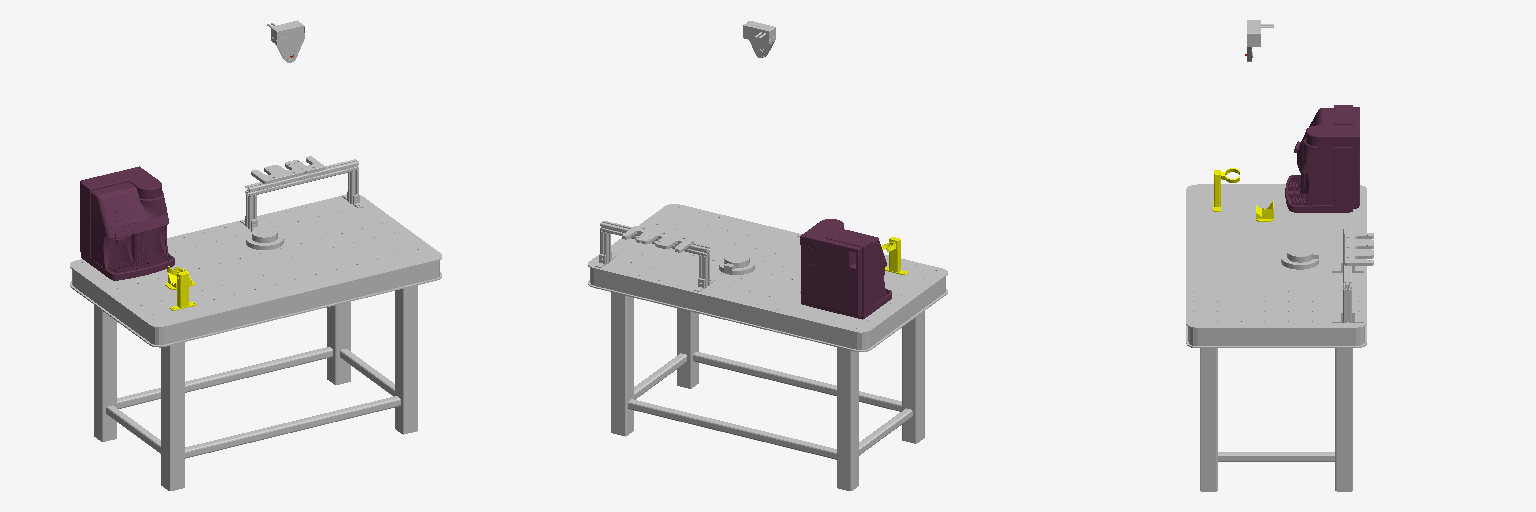
URDF robot description (aubo_e5):
<?xml version="1.0" ?>
<!-- =================================================================================== -->
<!-- |    This document was autogenerated by xacro from /home/mu/IVG2.0/aubo_ros2_ws/src/aubo_ros2_driver/aubo_moveit_config/config/aubo_e5.urdf.xacro | -->
<!-- |    EDITING THIS FILE BY HAND IS NOT RECOMMENDED                                 | -->
<!-- =================================================================================== -->
<robot name="aubo_e5">
  <!-- ===== 机械臂本体 (6-DOF) ===== -->
  <link name="base_link">
    <inertial>
      <origin rpy="0 0 0" xyz="-1.4795E-13 0.0015384 0.020951"/>
      <mass value="0.83419"/>
      <inertia ixx="0.0014414" ixy="7.8809E-15" ixz="8.5328E-16" iyy="0.0013542" iyz="-1.4364E-05" izz="0.0024659"/>
    </inertial>
    <visual>
      <origin rpy="0 0 0" xyz="0 0 0"/>
      <geometry>
        <mesh filename="package://aubo_description/meshes/visual/link0.dae"/>
      </geometry>
      <material name="">
        <color rgba="0.82 0.82 0.82 1"/>
      </material>
    </visual>
    <collision>
      <origin rpy="0 0 0" xyz="0 0 0"/>
      <geometry>
        <mesh filename="package://aubo_description/meshes/collision/link0.stl"/>
      </geometry>
    </collision>
  </link>
  <link name="shoulder_Link">
    <inertial>
      <origin rpy="0 0 0" xyz="0 0.0038 0.0006"/>
      <mass value="5.05"/>
      <inertia ixx="0.0148" ixy="0" ixz="0" iyy="0.0143" iyz="0" izz="0.0095"/>
    </inertial>
    <visual>
      <origin rpy="0 0 0" xyz="0 0 0"/>
      <geometry>
        <mesh filename="package://aubo_description/meshes/visual/link1.dae"/>
      </geometry>
      <material name="">
        <color rgba="0.82 0.82 0.82 1"/>
      </material>
    </visual>
    <collision>
      <origin rpy="0 0 0" xyz="0 0 0"/>
      <geometry>
        <mesh filename="package://aubo_description/meshes/collision/link1.stl"/>
      </geometry>
    </collision>
  </link>
  <joint name="shoulder_joint" type="revolute">
    <origin rpy="0 0 3.1415926535897932384626433832795" xyz="0 0 0.122"/>
    <parent link="base_link"/>
    <child link="shoulder_Link"/>
    <axis xyz="0 0 1"/>
    <limit effort="133" lower="-3.054326190990076759616458844855" start_stop="207" upper="3.054326190990076759616458844855" velocity="2.5964"/>
  </joint>
  <link name="upperArm_Link">
    <inertial>
      <origin rpy="0 0 0" xyz="0.2040 0 0.0196"/>
      <mass value="11.28"/>
      <inertia ixx="0.0305" ixy="0" ixz="0" iyy="0.4505" iyz="0" izz="0.4400"/>
    </inertial>
    <visual>
      <origin rpy="0 0 0" xyz="0 0 0"/>
      <geometry>
        <mesh filename="package://aubo_description/meshes/visual/link2.dae"/>
      </geometry>
      <material name="">
        <color rgba="0.82 0.82 0.82 1"/>
      </material>
    </visual>
    <collision>
      <origin rpy="0 0 0" xyz="0 0 0"/>
      <geometry>
        <mesh filename="package://aubo_description/meshes/collision/link2.stl"/>
      </geometry>
    </collision>
  </link>
  <joint name="upperArm_joint" type="revolute">
    <origin rpy="-1.5707963267948966192313216916398 -1.5707963267948966192313216916398 0" xyz="0 0.1215 0"/>
    <parent link="shoulder_Link"/>
    <child link="upperArm_Link"/>
    <axis xyz="0 0 1"/>
    <limit effort="133" lower="-3.054326190990076759616458844855" start_stop="207" upper="3.054326190990076759616458844855" velocity="2.5964"/>
  </joint>
  <link name="foreArm_Link">
    <inertial>
      <origin rpy="0 0 0" xyz="0.2699 0 0.0992"/>
      <mass value="2.88"/>
      <inertia ixx="0.0033" ixy="0" ixz="0" iyy="0.0575" iyz="0" izz="0.0565"/>
    </inertial>
    <visual>
      <origin rpy="0 0 0" xyz="0 0 0"/>
      <geometry>
        <mesh filename="package://aubo_description/meshes/visual/link3.dae"/>
      </geometry>
      <material name="">
        <color rgba="0.82 0.82 0.82 1"/>
      </material>
    </visual>
    <collision>
      <origin rpy="0 0 0" xyz="0 0 0"/>
      <geometry>
        <mesh filename="package://aubo_description/meshes/collision/link3.stl"/>
      </geometry>
    </collision>
  </link>
  <joint name="foreArm_joint" type="revolute">
    <origin rpy="-3.1415926535897932384626433832795 0 0" xyz="0.408 0 0"/>
    <parent link="upperArm_Link"/>
    <child link="foreArm_Link"/>
    <axis xyz="0 0 1"/>
    <limit effort="133" lower="-3.054326190990076759616458844855" start_stop="207" upper="3.054326190990076759616458844855" velocity="2.5964"/>
  </joint>
  <link name="wrist1_Link">
    <inertial>
      <origin rpy="0 0 0" xyz="0 -0.0997 -0.0780"/>
      <mass value="1.62"/>
      <inertia ixx="0.0023" ixy="0" ixz="0" iyy="0.0013" iyz="0" izz="0.0022"/>
    </inertial>
    <visual>
      <origin rpy="0 0 0" xyz="0 0 0"/>
      <geometry>
        <mesh filename="package://aubo_description/meshes/visual/link4.dae"/>
      </geometry>
      <material name="">
        <color rgba="0.82 0.82 0.82 1"/>
      </material>
    </visual>
    <collision>
      <origin rpy="0 0 0" xyz="0 0 0"/>
      <geometry>
        <mesh filename="package://aubo_description/meshes/collision/link4.stl"/>
      </geometry>
    </collision>
  </link>
  <joint name="wrist1_joint" type="revolute">
    <origin rpy="3.1415926535897932384626433832795 0 1.5707963267948966192313216916398" xyz="0.376 0 0"/>
    <parent link="foreArm_Link"/>
    <child link="wrist1_Link"/>
    <axis xyz="0 0 1"/>
    <limit effort="13.5" lower="-3.054326190990076759616458844855" start_stop="34" upper="3.054326190990076759616458844855" velocity="3.1105"/>
  </joint>
  <link name="wrist2_Link">
    <inertial>
      <origin rpy="0 0 0" xyz="0 -0.0028 -0.0030"/>
      <mass value="1.62"/>
      <inertia ixx="0.0023" ixy="0" ixz="0" iyy="0.0013" iyz="0" izz="0.0022"/>
    </inertial>
    <visual>
      <origin rpy="0 0 0" xyz="0 0 0"/>
      <geometry>
        <mesh filename="package://aubo_description/meshes/visual/link5.dae"/>
      </geometry>
      <material name="">
        <color rgba="0.82 0.82 0.82 1"/>
      </material>
    </visual>
    <collision>
      <origin rpy="0 0 0" xyz="0 0 0"/>
      <geometry>
        <mesh filename="package://aubo_description/meshes/collision/link5.stl"/>
      </geometry>
    </collision>
  </link>
  <joint name="wrist2_joint" type="revolute">
    <origin rpy="-1.5707963267948966192313216916398 0 0" xyz="0 0.1025 0"/>
    <parent link="wrist1_Link"/>
    <child link="wrist2_Link"/>
    <axis xyz="0 0 1"/>
    <limit effort="13.5" lower="-3.054326190990076759616458844855" start_stop="34" upper="3.054326190990076759616458844855" velocity="3.1105"/>
  </joint>
  <link name="wrist3_Link">
    <inertial>
      <origin rpy="0 0 0" xyz="0 0 -0.0442"/>
      <mass value="0.5"/>
      <inertia ixx="0.00139395" ixy="0" ixz="0" iyy="0.00139882" iyz="0" izz="0.00224092"/>
    </inertial>
    <visual>
      <origin rpy="0 0 0" xyz="0 0 0"/>
      <geometry>
        <mesh filename="package://aubo_description/meshes/visual/link6.dae"/>
      </geometry>
      <material name="">
        <color rgba="0.82 0.82 0.82 1"/>
      </material>
    </visual>
    <collision>
      <origin rpy="0 0 0" xyz="0 0 0"/>
      <geometry>
        <mesh filename="package://aubo_description/meshes/collision/link6.stl"/>
      </geometry>
    </collision>
  </link>
  <joint name="wrist3_joint" type="revolute">
    <origin rpy="1.5707963267948966192313216916398 0 1.7907E-15" xyz="0 -0.094 0"/>
    <parent link="wrist2_Link"/>
    <child link="wrist3_Link"/>
    <axis xyz="0 0 1"/>
    <limit effort="13.5" lower="-3.054326190990076759616458844855" start_stop="34" upper="3.054326190990076759616458844855" velocity="3.1105"/>
  </joint>
  <link name="world"/>
  <!-- ===== 底座（咖啡机总装模型 pedestal_Link） ===== -->
  <link name="pedestal_Link">
    <inertial>
      <origin rpy="0 0 0" xyz="0.0024005 -0.14873 -0.0020194"/>
      <mass value="180.93"/>
      <inertia ixx="10.702" ixy="6.7618E-17" ixz="3.0187E-14" iyy="41.01" iyz="1.466E-07" izz="32.457"/>
    </inertial>
    <visual>
      <origin rpy="0 0 0" xyz="0 0 0"/>
      <geometry>
        <mesh filename="package://aubo_description/meshes/visual/pedestal_link.stl"/>
      </geometry>
      <material name="">
        <color rgba="0.82 0.82 0.82 1"/>
      </material>
    </visual>
    <collision>
      <origin rpy="0 0 0" xyz="0 0 0"/>
      <geometry>
        <mesh filename="package://aubo_description/meshes/collision/pedestal_link.stl"/>
      </geometry>
    </collision>
  </link>
  <joint name="world_to_pedestal" type="fixed">
    <parent link="world"/>
    <child link="pedestal_Link"/>
    <origin rpy="0.0 0.0 0.0" xyz="0.0 0.0 0.0"/>
  </joint>
  <joint name="base_joint" type="fixed">
    <origin rpy="0 0 0" xyz="0.10483 0.10483 0.028"/>
    <parent link="pedestal_Link"/>
    <child link="base_link"/>
  </joint>
  <!-- ===== 咖啡机总装模型配件 ===== -->
  <link name="cup0_Link">
    <inertial>
      <origin rpy="0 0 0" xyz="0.0459046653140415 0.0335578409178754 0.00298286778797363"/>
      <mass value="1.42763211505643"/>
      <inertia ixx="0.00133864759857838" ixy="-0.000153798571779387" ixz="-3.31742934007893E-05" iyy="0.00208448111254178" iyz="-3.67284842420613E-05" izz="0.0011896985575748"/>
    </inertial>
    <visual>
      <origin rpy="0 0 0" xyz="0 0 0"/>
      <geometry>
        <mesh filename="package://aubo_description/meshes/visual/cup0_link.stl"/>
      </geometry>
      <material name="">
        <color rgba="1 1 0 1"/>
      </material>
    </visual>
    <collision>
      <origin rpy="0 0 0" xyz="0 0 0"/>
      <geometry>
        <mesh filename="package://aubo_description/meshes/collision/cup0_link.stl"/>
      </geometry>
    </collision>
  </link>
  <joint name="cup0_joint" type="fixed">
    <origin rpy="1.5708 0 1.5708" xyz="-0.4225 -0.0925 -0.012"/>
    <parent link="pedestal_Link"/>
    <child link="cup0_Link"/>
  </joint>
  <link name="lizhu_Link">
    <inertial>
      <origin rpy="0 0 0" xyz="0.012277 0.082104 1.7053E-05"/>
      <mass value="0.86598"/>
      <inertia ixx="0.0014347" ixy="1.5778E-05" ixz="1.1895E-08" iyy="0.00066764" iyz="3.1238E-05" izz="0.0012088"/>
    </inertial>
    <visual>
      <origin rpy="0 0 0" xyz="0 0 0"/>
      <geometry>
        <mesh filename="package://aubo_description/meshes/visual/lizhu_link.stl"/>
      </geometry>
      <material name="">
        <color rgba="1 1 0 1"/>
      </material>
    </visual>
    <collision>
      <origin rpy="0 0 0" xyz="0 0 0"/>
      <geometry>
        <mesh filename="package://aubo_description/meshes/collision/lizhu_link.stl"/>
      </geometry>
    </collision>
  </link>
  <joint name="lizhu_joint" type="fixed">
    <origin rpy="1.5708 0 1.5708" xyz="-0.525 -0.2625 0.006"/>
    <parent link="pedestal_Link"/>
    <child link="lizhu_Link"/>
  </joint>
  <link name="coffee_Link">
    <inertial>
      <origin rpy="0 0 0" xyz="0.01588 0.20584 0.0021911"/>
      <mass value="91.454"/>
      <inertia ixx="0.89876" ixy="0.0020091" ixz="-0.10749" iyy="1.0151" iyz="0.023803" izz="0.44104"/>
    </inertial>
    <visual>
      <origin rpy="0 0 0" xyz="0 0 0"/>
      <geometry>
        <mesh filename="package://aubo_description/meshes/visual/coffee_link.stl"/>
      </geometry>
      <material name="">
        <color rgba="0.42745 0.24706 0.35686 1"/>
      </material>
    </visual>
    <collision>
      <origin rpy="0 0 0" xyz="0 0 0"/>
      <geometry>
        <mesh filename="package://aubo_description/meshes/collision/coffee_link.stl"/>
      </geometry>
    </collision>
  </link>
  <joint name="coffee_joint" type="fixed">
    <origin rpy="1.5708 0 1.5708" xyz="-0.53995 0.20318 0.046"/>
    <parent link="pedestal_Link"/>
    <child link="coffee_Link"/>
  </joint>
  <!-- ===== 末端执行器: 相机 ===== -->
  <link name="camera_Link">
    <inertial>
      <origin rpy="0 0 0" xyz="-0.0005963 0.085972 -0.026401"/>
      <mass value="0.72743"/>
      <inertia ixx="0.00064649" ixy="2.7688E-06" ixz="-2.0272E-05" iyy="0.0013072" iyz="8.2399E-05" izz="0.0014971"/>
    </inertial>
    <visual>
      <origin rpy="0 0 0" xyz="0 0 0"/>
      <geometry>
        <mesh filename="package://aubo_description/meshes/visual/camera_link.stl"/>
      </geometry>
      <material name="">
        <color rgba="0.82 0.82 0.82 1"/>
      </material>
    </visual>
    <collision>
      <origin rpy="0 0 0" xyz="0 0 0"/>
      <geometry>
        <mesh filename="package://aubo_description/meshes/collision/camera_link.stl"/>
      </geometry>
    </collision>
  </link>
  <joint name="camera_joint" type="fixed">
    <origin rpy="0.0 0.0 0.0" xyz="0.0 0.0 0.020"/>
    <parent link="wrist3_Link"/>
    <child link="camera_Link"/>
  </joint>
  <!-- ===== 末端执行器: 快换法兰 ===== -->
  <link name="kuaihuan_Link">
    <inertial>
      <origin rpy="0 0 0" xyz="-0.00074639 7.4616E-05 0.0097884"/>
      <mass value="0.21939"/>
      <inertia ixx="6.3771E-05" ixy="4.2875E-07" ixz="-1.7848E-07" iyy="6.9403E-05" iyz="-4.5085E-07" izz="0.0001149"/>
    </inertial>
    <visual>
      <origin rpy="0 0 0" xyz="0 0 0"/>
      <geometry>
        <mesh filename="package://aubo_description/meshes/visual/kuaihuan_link.stl"/>
      </geometry>
      <material name="">
        <color rgba="0.82 0.82 0.82 1"/>
      </material>
    </visual>
    <collision>
      <origin rpy="0 0 0" xyz="0 0 0"/>
      <geometry>
        <mesh filename="package://aubo_description/meshes/collision/kuaihuan_link.stl"/>
      </geometry>
    </collision>
  </link>
  <joint name="kuaihuan_joint" type="fixed">
    <origin rpy="0 0 3.1416" xyz="0 0 0.0215"/>
    <parent link="camera_Link"/>
    <child link="kuaihuan_Link"/>
  </joint>
  <!-- Tool Center Point -->
  <link name="tool_tcp">
    <visual>
      <origin rpy="0 0 0" xyz="0 0 0"/>
      <geometry>
        <sphere radius="0.005"/>
      </geometry>
      <material name="tcp_marker">
        <color rgba="1.0 0.0 0.0 1.0"/>
      </material>
    </visual>
  </link>
  <joint name="wrist3_to_tcp" type="fixed">
    <parent link="wrist3_Link"/>
    <child link="tool_tcp"/>
    <origin rpy="0.0 0.0 0.0" xyz="0.0 0.0 0.0235"/>
  </joint>
  <transmission name="shoulder_joint_trans">
    <type>transmission_interface/SimpleTransmission</type>
    <joint name="shoulder_joint">
      <hardwareInterface>hardware_interface/PositionJointInterface</hardwareInterface>
    </joint>
    <actuator name="shoulder_joint_motor">
      <mechanicalReduction>1</mechanicalReduction>
    </actuator>
  </transmission>
  <transmission name="upperArm_joint_trans">
    <type>transmission_interface/SimpleTransmission</type>
    <joint name="upperArm_joint">
      <hardwareInterface>hardware_interface/PositionJointInterface</hardwareInterface>
    </joint>
    <actuator name="upperArm_joint_motor">
      <mechanicalReduction>1</mechanicalReduction>
    </actuator>
  </transmission>
  <transmission name="foreArm_joint_trans">
    <type>transmission_interface/SimpleTransmission</type>
    <joint name="foreArm_joint">
      <hardwareInterface>hardware_interface/PositionJointInterface</hardwareInterface>
    </joint>
    <actuator name="foreArm_joint_motor">
      <mechanicalReduction>1</mechanicalReduction>
    </actuator>
  </transmission>
  <transmission name="wrist1_joint_trans">
    <type>transmission_interface/SimpleTransmission</type>
    <joint name="wrist1_joint">
      <hardwareInterface>hardware_interface/PositionJointInterface</hardwareInterface>
    </joint>
    <actuator name="wrist1_joint_motor">
      <mechanicalReduction>1</mechanicalReduction>
    </actuator>
  </transmission>
  <transmission name="wrist2_joint_trans">
    <type>transmission_interface/SimpleTransmission</type>
    <joint name="wrist2_joint">
      <hardwareInterface>hardware_interface/PositionJointInterface</hardwareInterface>
    </joint>
    <actuator name="wrist2_joint_motor">
      <mechanicalReduction>1</mechanicalReduction>
    </actuator>
  </transmission>
  <transmission name="wrist3_joint_trans">
    <type>transmission_interface/SimpleTransmission</type>
    <joint name="wrist3_joint">
      <hardwareInterface>hardware_interface/PositionJointInterface</hardwareInterface>
    </joint>
    <actuator name="wrist3_joint_motor">
      <mechanicalReduction>1</mechanicalReduction>
    </actuator>
  </transmission>
  <ros2_control name="auboHardwareInterface" type="system">
    <hardware>
      <plugin>fake_components/GenericSystem</plugin>
      <param name="fake_sensor_commands">False</param>
      <param name="state_following_offset">0.0</param>
    </hardware>
    <joint name="shoulder_joint">
      <command_interface name="position">
        <param name="min">-3.05</param>
        <param name="max">3.05</param>
      </command_interface>
      <state_interface name="position"/>
      <state_interface name="velocity"/>
    </joint>
    <joint name="upperArm_joint">
      <command_interface name="position">
        <param name="min">-3.05</param>
        <param name="max">3.05</param>
      </command_interface>
      <state_interface name="position"/>
      <state_interface name="velocity"/>
    </joint>
    <joint name="foreArm_joint">
      <command_interface name="position">
        <param name="min">-3.05</param>
        <param name="max">3.05</param>
      </command_interface>
      <state_interface name="position"/>
      <state_interface name="velocity"/>
    </joint>
    <joint name="wrist1_joint">
      <command_interface name="position">
        <param name="min">-3.05</param>
        <param name="max">3.05</param>
      </command_interface>
      <state_interface name="position"/>
      <state_interface name="velocity"/>
    </joint>
    <joint name="wrist2_joint">
      <command_interface name="position">
        <param name="min">-3.05</param>
        <param name="max">3.05</param>
      </command_interface>
      <state_interface name="position"/>
      <state_interface name="velocity"/>
    </joint>
    <joint name="wrist3_joint">
      <command_interface name="position">
        <param name="min">-3.05</param>
        <param name="max">3.05</param>
      </command_interface>
      <state_interface name="position"/>
      <state_interface name="velocity"/>
    </joint>
  </ros2_control>
</robot>

--- Render facts (derived) ---
The picture shows the robot from 3 angles, left to right: view 1: azimuth 30°, elevation 25°; view 2: azimuth 150°, elevation 25°; view 3: azimuth 270°, elevation 25°; orthographic projection.
Model aubo_e5 with 15 links and 14 joints (6 revolute, 8 fixed), rooted at world, posed all joints at 0.
Visible links, largest first — view 1: pedestal_Link, coffee_Link, camera_Link, base_link, lizhu_Link; view 2: pedestal_Link, coffee_Link, camera_Link, base_link; view 3: pedestal_Link, coffee_Link, base_link.
Link boxes in pixels (<box>): pedestal_Link: <box>70,156,441,490</box>; coffee_Link: <box>80,166,174,280</box>; camera_Link: <box>267,20,304,62</box>; base_link: <box>246,226,283,249</box>; lizhu_Link: <box>167,266,196,310</box>; pedestal_Link: <box>588,204,947,490</box>; coffee_Link: <box>800,219,891,319</box>; camera_Link: <box>743,21,775,57</box>; base_link: <box>719,252,754,274</box>; pedestal_Link: <box>1186,184,1373,491</box>; coffee_Link: <box>1285,105,1359,212</box>; base_link: <box>1281,246,1318,269</box>.
Size in the robot's own frame: 1.5 by 0.83 by 2.02 metres.
Meshes: 13 distinct files referenced, 6 mesh visuals loaded (5 binary STL, 1 Collada DAE); not drawn: 7 (reference not matched to a file when rendering).
